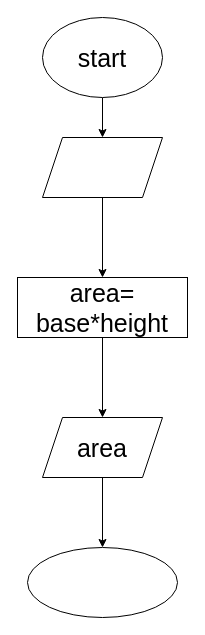
Image size: 205x635. Some labels were removed from this diagram. Each missing label, with the centre of its shape:
base , height: (x=102, y=167)
END: (x=102, y=582)
